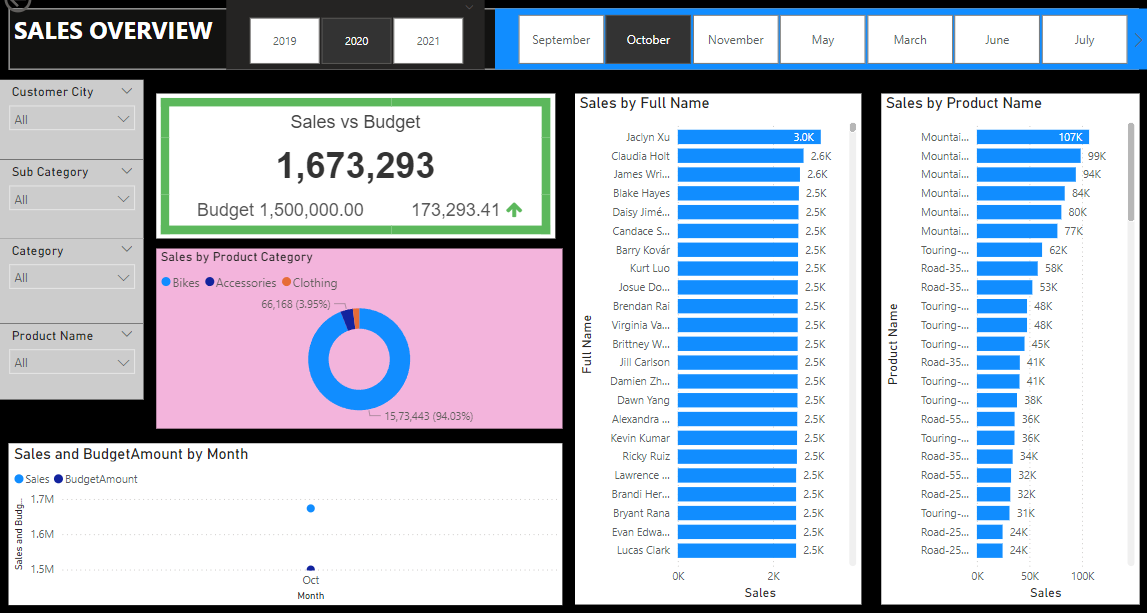

This screenshot's page, from the dashboard's own definition file:
{"tool":"powerbi","page":{"name":"Sales Overview","canvas":[1280,720],"ordinal":0},"visuals":[{"type":"textbox","box":[9.8,30.7,1259.5,68.3],"z":0},{"type":"slicer","fields":{"Values":["DIM_Customers.Customer City"]},"box":[0,110.1,160.2,89.2],"z":1000},{"type":"actionButton","box":[0,0,100,40],"z":2000},{"type":"slicer","fields":{"Values":["DIM_Products.Sub Category"]},"box":[0,199.2,160.2,87.8],"z":3000},{"type":"slicer","fields":{"Values":["DIM_Products.Product Category"]},"box":[0,287,160.2,94.7],"z":4000},{"type":"slicer","fields":{"Values":["DIM_Products.Product Name"]},"box":[0,381.7,160.2,85],"z":5000},{"type":"slicer","fields":{"Values":["DIM_Calendar.Year"]},"box":[252.2,19.5,288.4,79.4],"z":6000},{"type":"slicer","fields":{"Values":["DIM_Calendar.Month"]},"box":[551.7,30.7,728.6,68.3],"z":7000},{"type":"BBED0A4D4D8D44CE93CF2DAFADEE466C","fields":{"actual":["FACT_InternetSales.Sales"],"target1":["FactBudget.BudgetAmount"],"target2":["Key Measures.Sales - Budget"]},"box":[174.1,125.4,444.4,161.6],"z":9000},{"type":"donutChart","fields":{"Category":["DIM_Products.Product Category"],"Y":["Key Measures.Sales"]},"box":[174.1,298.1,452.8,200.6],"z":10000},{"type":"lineChart","fields":{"Y":["Key Measures.Sales","Key Measures.BudgetAmount"],"Category":["DIM_Calendar.MonthShort"]},"box":[9.8,515.5,617.2,179.7],"z":11000},{"type":"barChart","fields":{"Y":["Key Measures.Sales"],"Category":["DIM_Customers.Full Name"]},"box":[640.6,124.7,318.9,569.7],"z":12000},{"type":"barChart","fields":{"Y":["Key Measures.Sales"],"Category":["DIM_Products.Product Name"]},"box":[982.1,124.7,287.7,569.7],"z":13000}]}

Visuals, with their boxes on the page's 1280x720 design canvas (x1, y1, x2, y2). These are canvas units, not pixel positions in the 1147x613 screenshot, which may show the page scaled, cropped or inside an application window:
textbox: (10,31,1269,99)
slicer - DIM_Customers.Customer City: (0,110,160,199)
actionButton: (0,0,100,40)
slicer - DIM_Products.Sub Category: (0,199,160,287)
slicer - DIM_Products.Product Category: (0,287,160,382)
slicer - DIM_Products.Product Name: (0,382,160,467)
slicer - DIM_Calendar.Year: (252,20,541,99)
slicer - DIM_Calendar.Month: (552,31,1280,99)
BBED0A4D4D8D44CE93CF2DAFADEE466C - FACT_InternetSales.Sales x FactBudget.BudgetAmount: (174,125,618,287)
donutChart - DIM_Products.Product Category x Key Measures.Sales: (174,298,627,499)
lineChart - Key Measures.Sales x Key Measures.BudgetAmount: (10,516,627,695)
barChart - Key Measures.Sales x DIM_Customers.Full Name: (641,125,960,694)
barChart - Key Measures.Sales x DIM_Products.Product Name: (982,125,1270,694)
